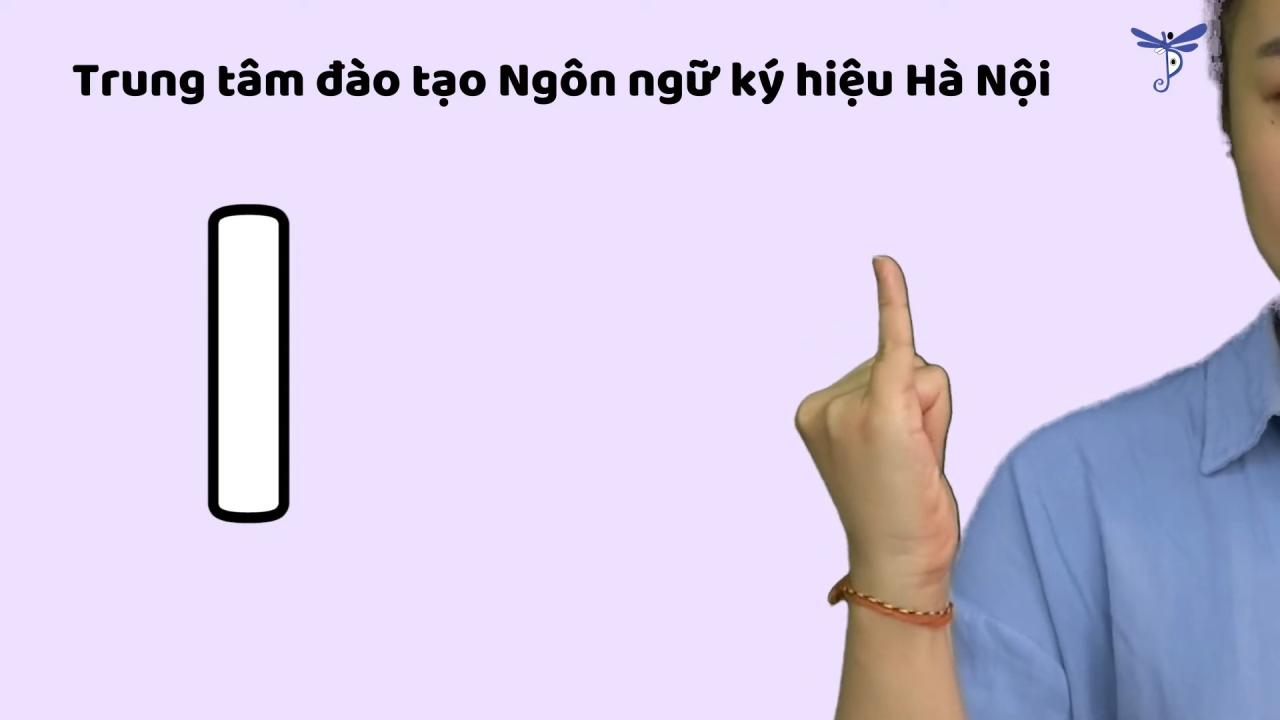I: (774, 240, 972, 609)
